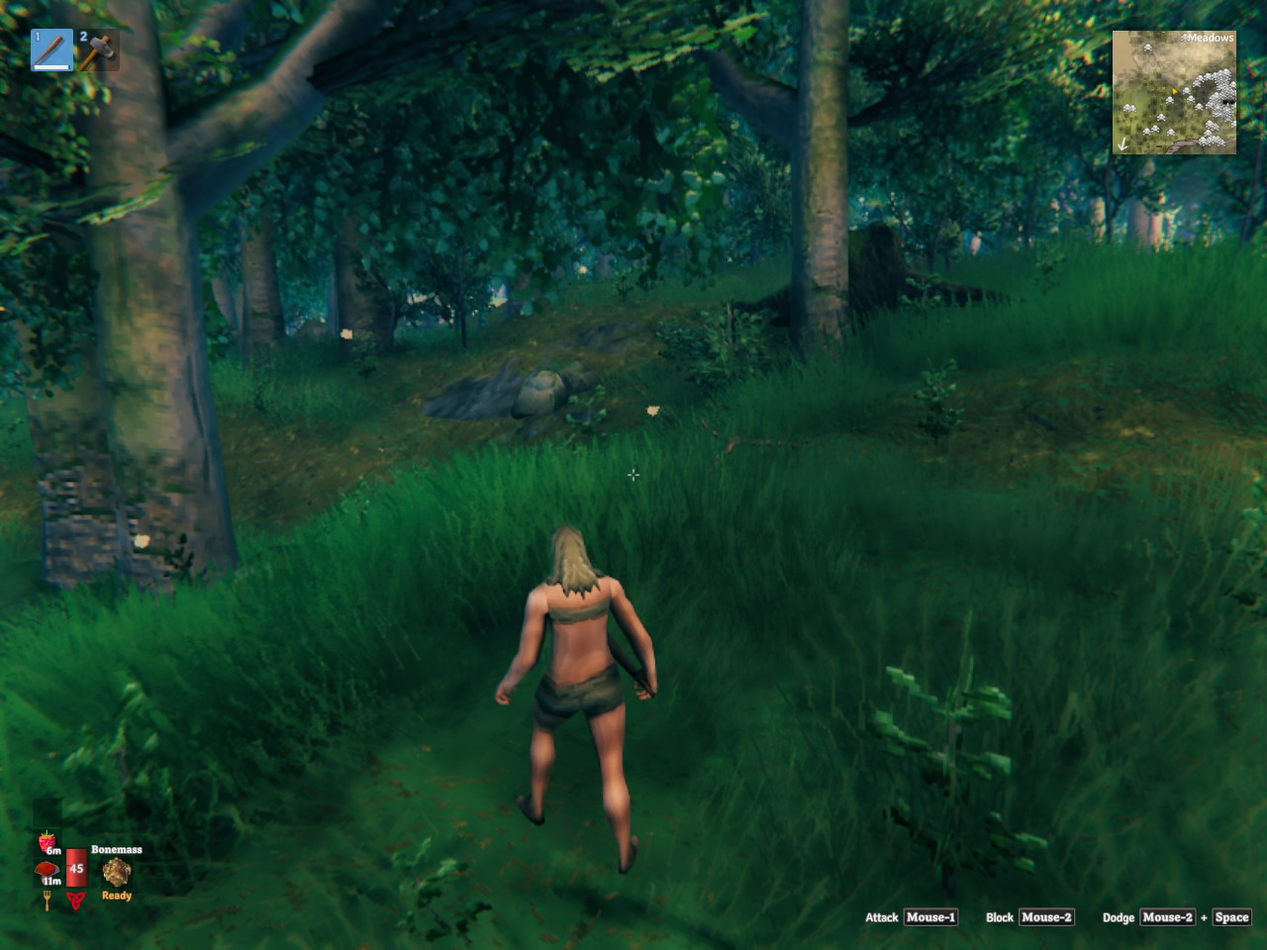Branch: (726, 434, 808, 454), (710, 429, 722, 437)
Food Indicator: (36, 797, 63, 891)
Health Bar: (63, 820, 90, 891)
Hotbar: (24, 21, 195, 80)
